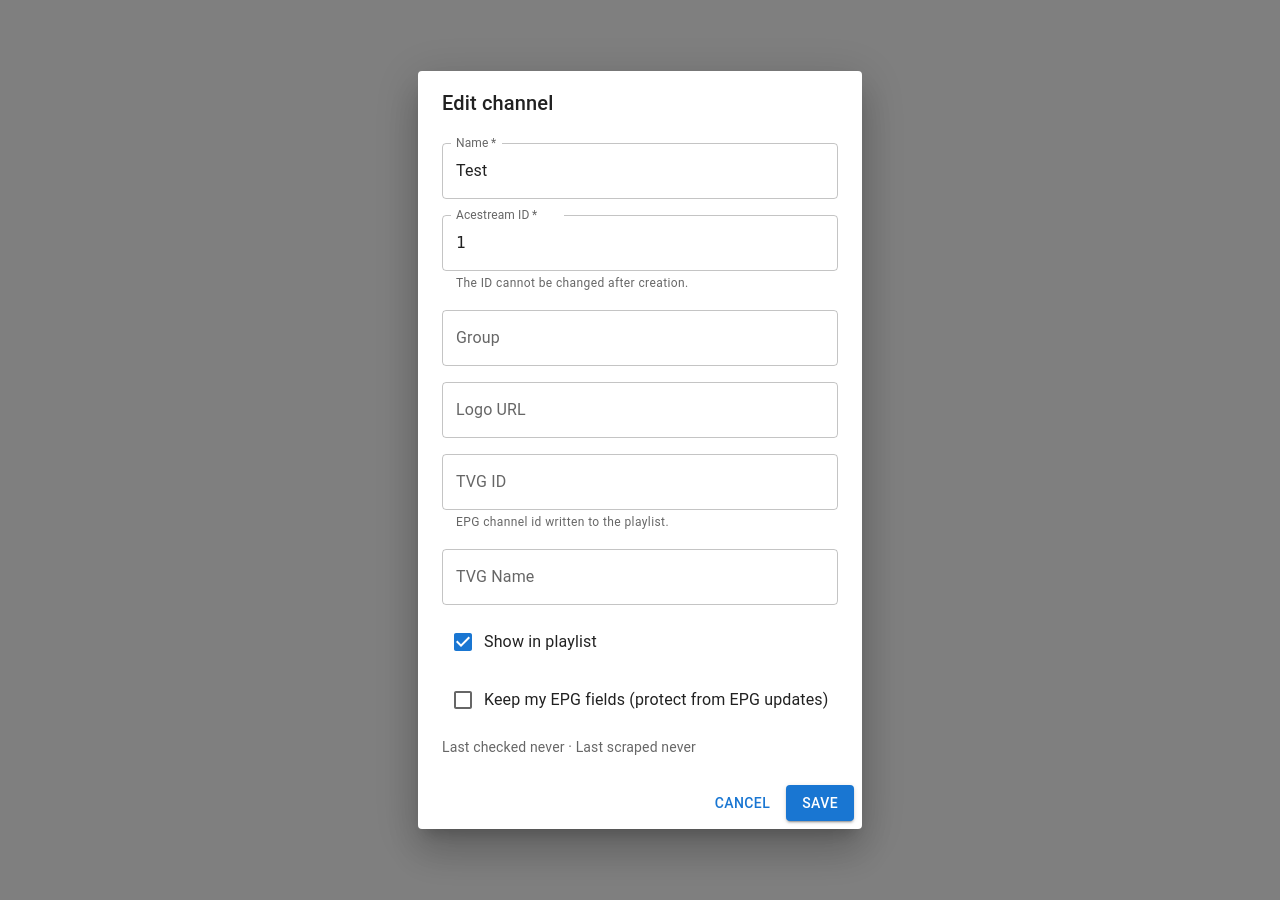
QuickEditDialog › shows error alert on save failure
Replace the text in the field labelled "Name *" with "New Name". click: (640, 171)
box: [442, 143, 838, 199]
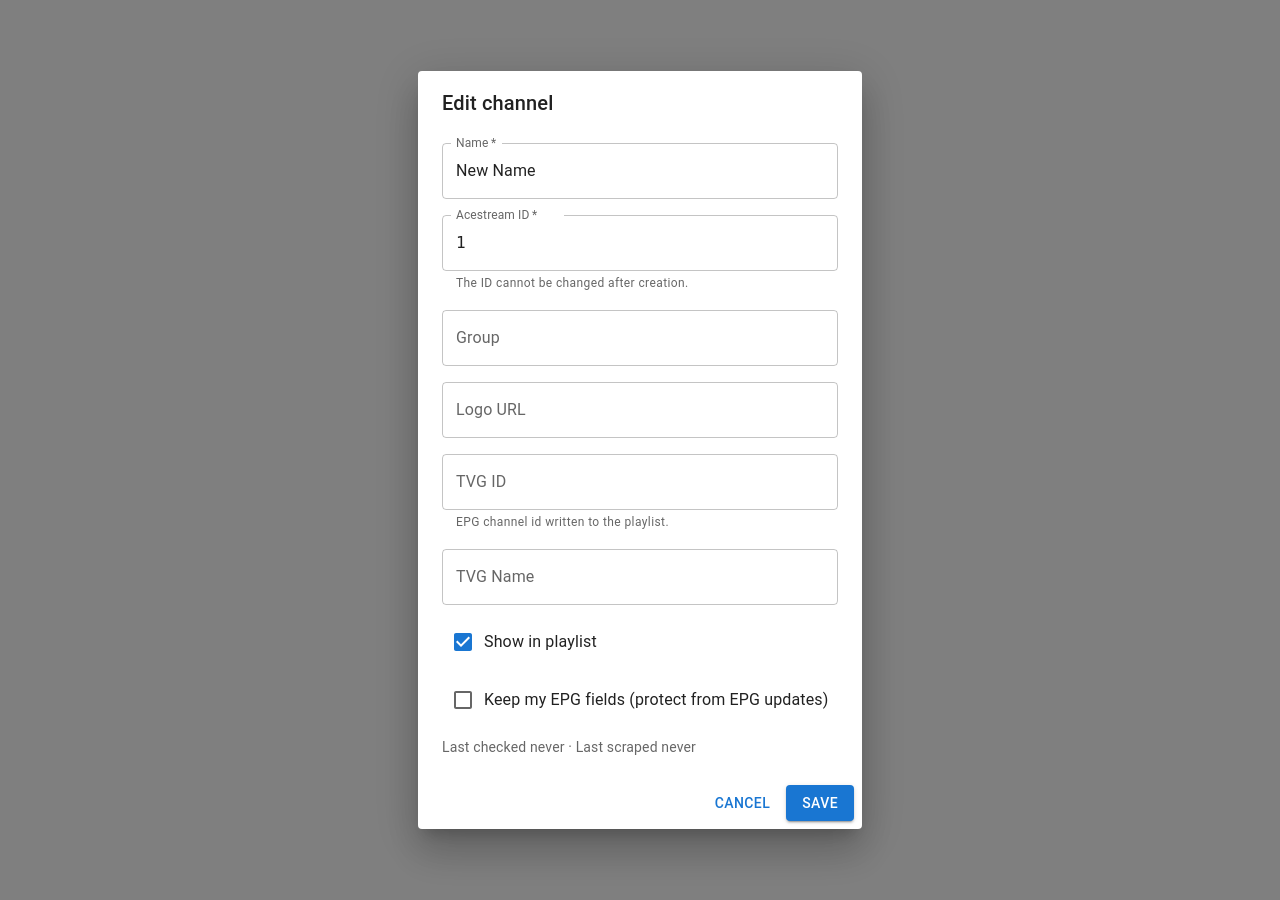
Click the button "Save". click: click(820, 803)
box: [786, 785, 854, 821]
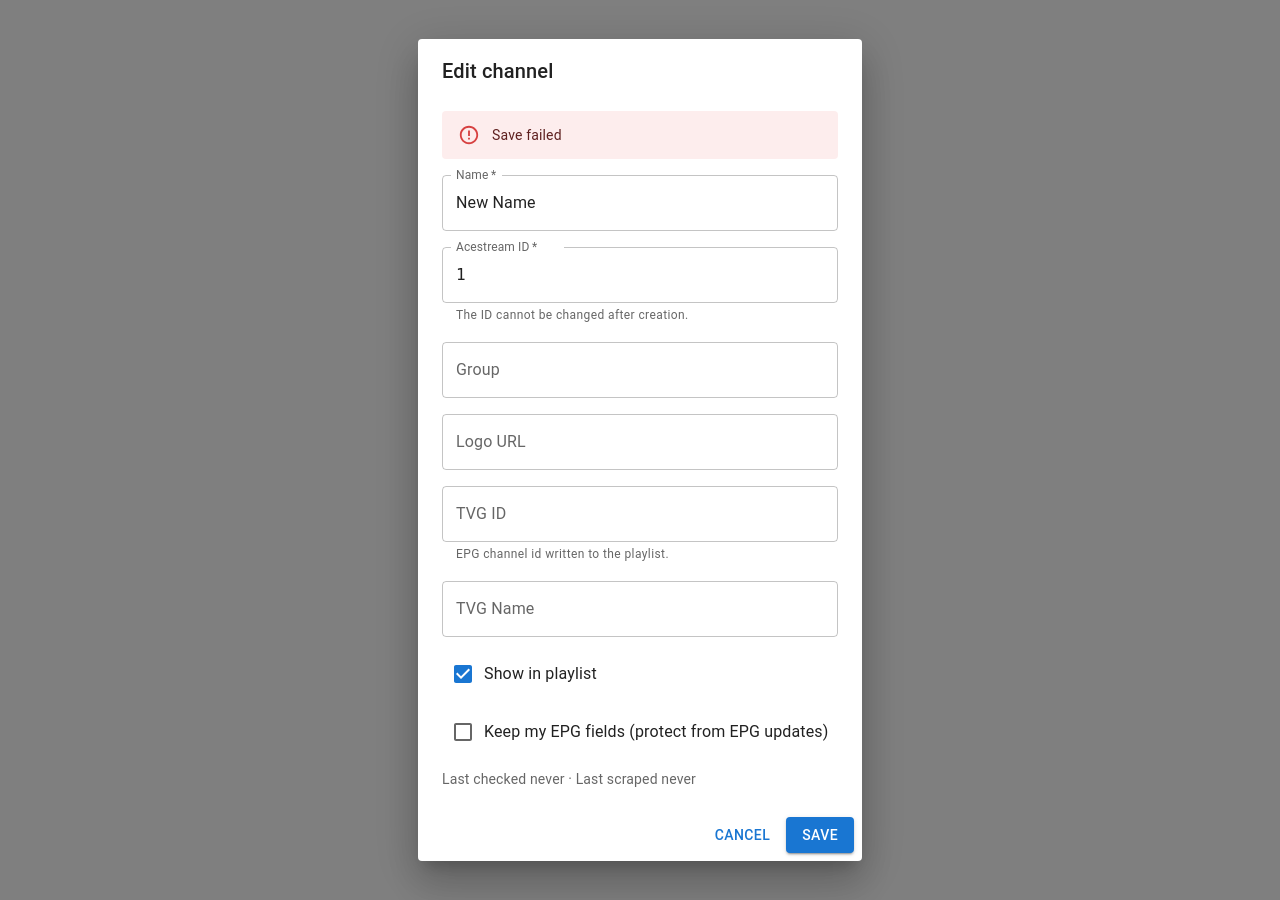
Expected: the text "Save failed" is shown, [492, 127, 562, 143]
